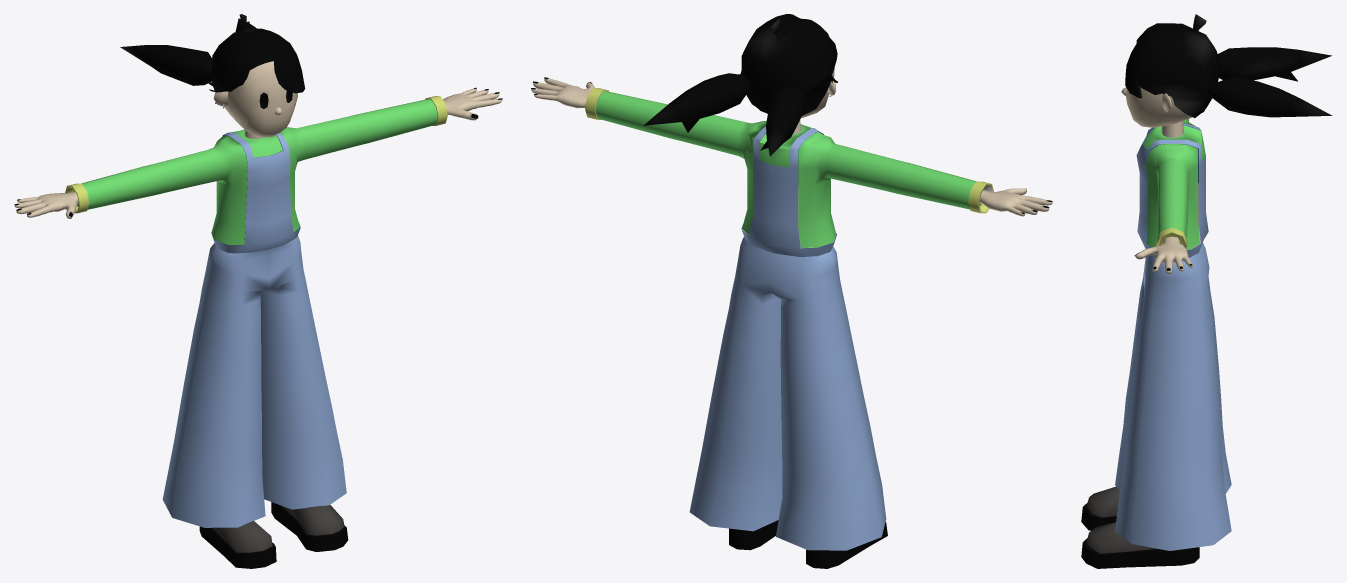
The model's file is Protagonista.fbx.
The picture shows the model from 3 angles, left to right: view 1: azimuth 30°, elevation 25°; view 2: azimuth 150°, elevation 25°; view 3: azimuth 270°, elevation 25°; orthographic projection. The views are drawn at different scales.
Visible parts, largest first — view 1: Protagonista; view 2: Protagonista; view 3: Protagonista.
Part boxes in pixels (x1,y1,x2,y2): Protagonista: (14, 14, 502, 568); Protagonista: (531, 14, 1052, 568); Protagonista: (1081, 14, 1332, 568).
Bounding box in the file's own units: 155 × 155 × 67.16.
